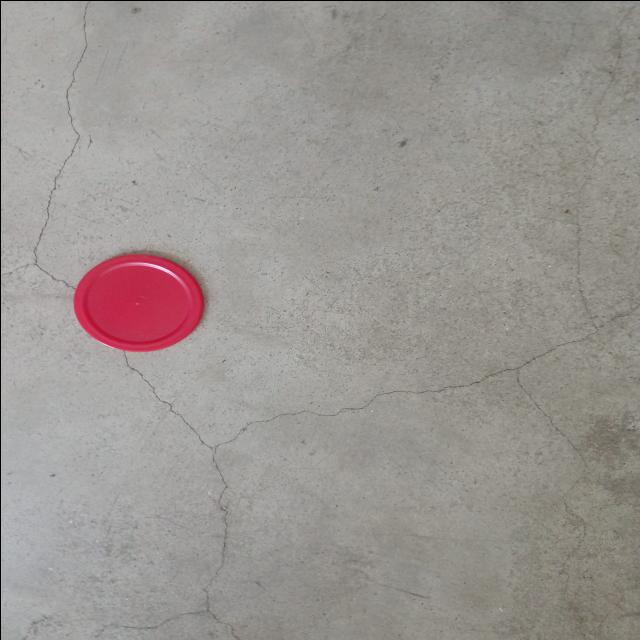chip: (70, 254, 204, 352)
